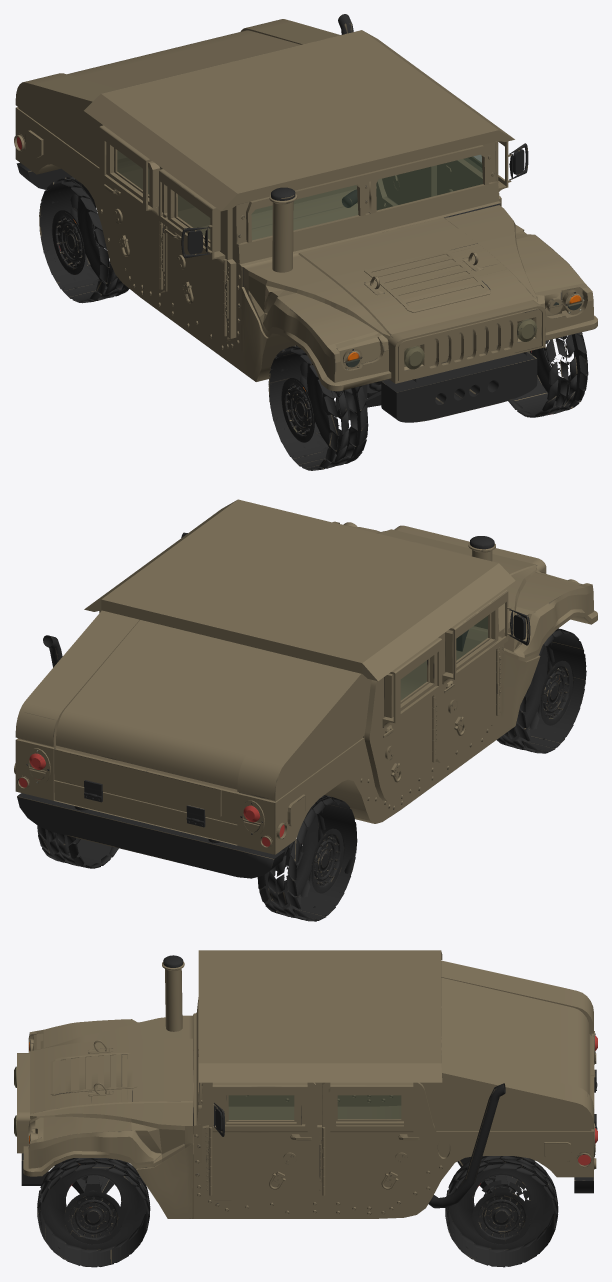
The model's file is humvee_transport.glb.
3 views of the same model, one above another, from view 1: azimuth 30°, elevation 25°; view 2: azimuth 150°, elevation 25°; view 3: azimuth 270°, elevation 25° (orthographic). The views are drawn at different scales.
Visible parts, largest first — view 1: Truck.001, Glass of truct; view 2: Truck.001, Glass of truct; view 3: Truck.001, Glass of truct.
Boxes of the visible parts, left/top/right/bottom form: Truck.001: left=14, top=14, right=597, bottom=470; Glass of truct: left=117, top=150, right=482, bottom=240; Truck.001: left=14, top=499, right=597, bottom=921; Glass of truct: left=400, top=616, right=487, bottom=700; Truck.001: left=14, top=950, right=597, bottom=1267; Glass of truct: left=228, top=1095, right=401, bottom=1119.
Size of the model in its own units: 1.8 by 1.18 by 2.95.
Materials: 2 (1 with a texture image).
